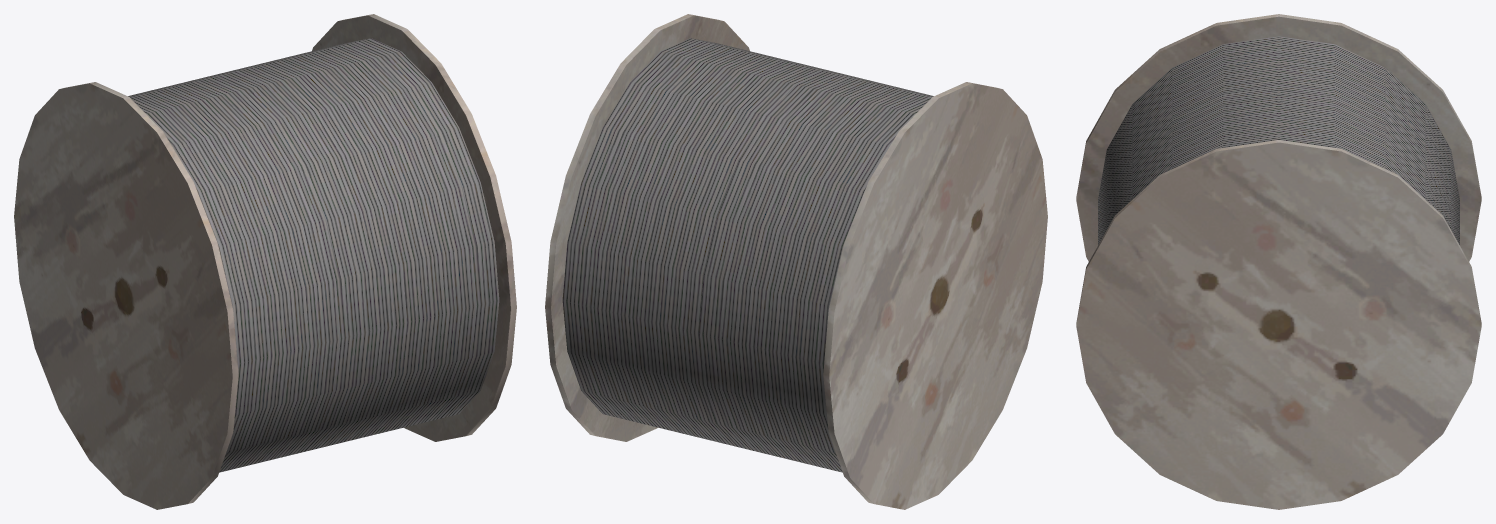
The model's file is props_farm_spool_wire.glb.
3 renders of one model, left to right at view 1: azimuth 30°, elevation 25°; view 2: azimuth 150°, elevation 25°; view 3: azimuth 270°, elevation 25°, orthographic. The views are drawn at different scales.
Parts seen in each view (by area): view 1: models/props_farm/spool_wire; view 2: models/props_farm/spool_wire; view 3: models/props_farm/spool_wire.
Part boxes in pixels (left/top/right/bottom): models/props_farm/spool_wire: left=14, top=14, right=516, bottom=509; models/props_farm/spool_wire: left=545, top=14, right=1047, bottom=509; models/props_farm/spool_wire: left=1076, top=14, right=1481, bottom=509.
Bounding box in the file's own units: 48 × 64 × 64.
1 material, 1 textured.
